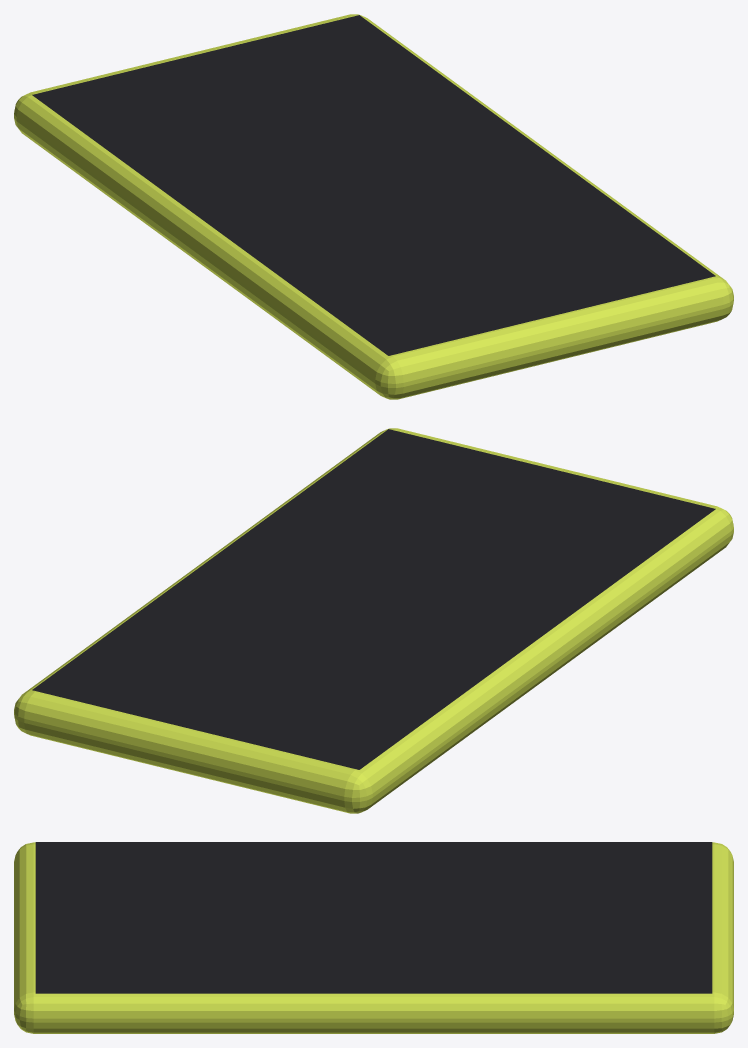
File: Phone_903.glb
3 renders of one model, top to bottom at view 1: azimuth 30°, elevation 25°; view 2: azimuth 150°, elevation 25°; view 3: azimuth 270°, elevation 25°, orthographic. The views are drawn at different scales.
Visible parts, largest first — view 1: Phone_Screen, Phone_Body; view 2: Phone_Screen, Phone_Body; view 3: Phone_Screen, Phone_Body.
Part boxes in pixels (box(x1,y1,x2,y2)): Phone_Screen: box(32, 15, 715, 355); Phone_Body: box(14, 14, 733, 399); Phone_Screen: box(32, 429, 715, 769); Phone_Body: box(14, 428, 733, 813); Phone_Screen: box(35, 842, 712, 993); Phone_Body: box(14, 842, 733, 1033).
Bounding box in the file's own units: 0.0766 × 0.0087 × 0.1414.
